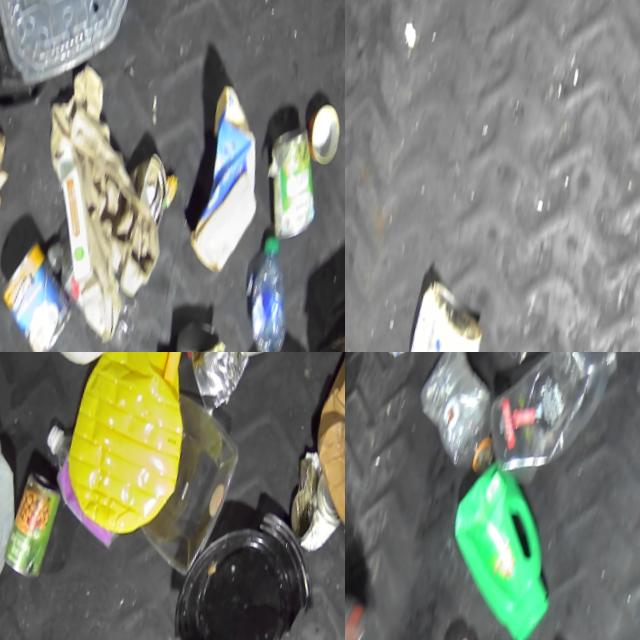can: (0, 221, 80, 352), (247, 112, 326, 237), (0, 461, 60, 580), (275, 449, 345, 545), (297, 86, 343, 157)
milk_jug: (0, 407, 35, 612)
non_white_jug: (45, 352, 212, 544), (427, 453, 569, 640)
plastic_bottle: (471, 352, 630, 493), (404, 352, 514, 468)
